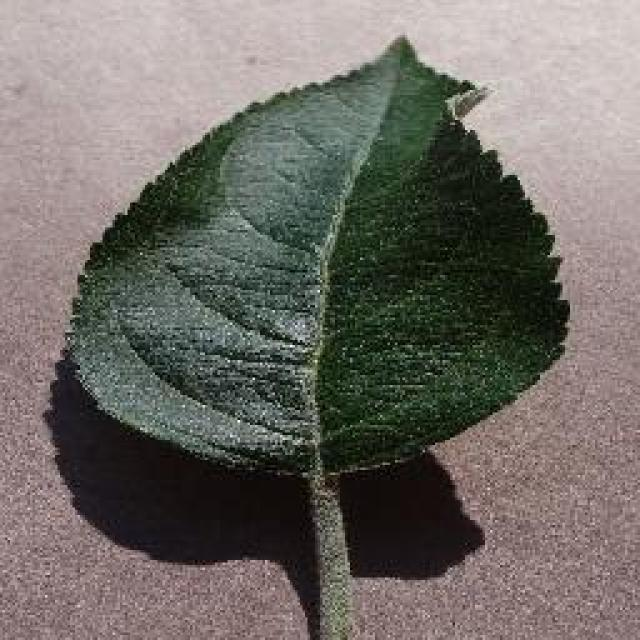apple healthy: (60, 32, 572, 482)
